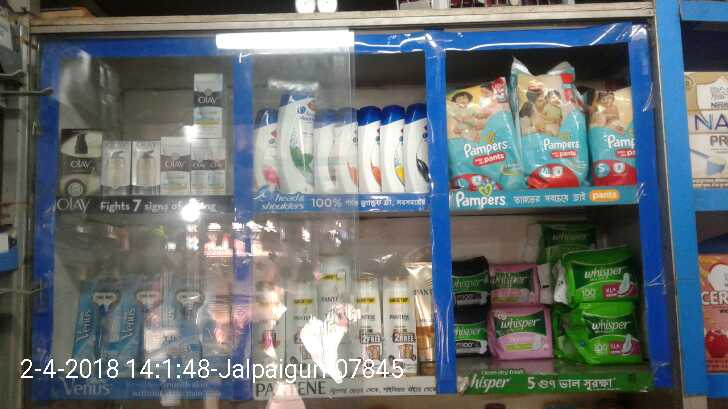venus: (69, 273, 128, 353), (172, 279, 217, 352), (131, 273, 169, 353)
